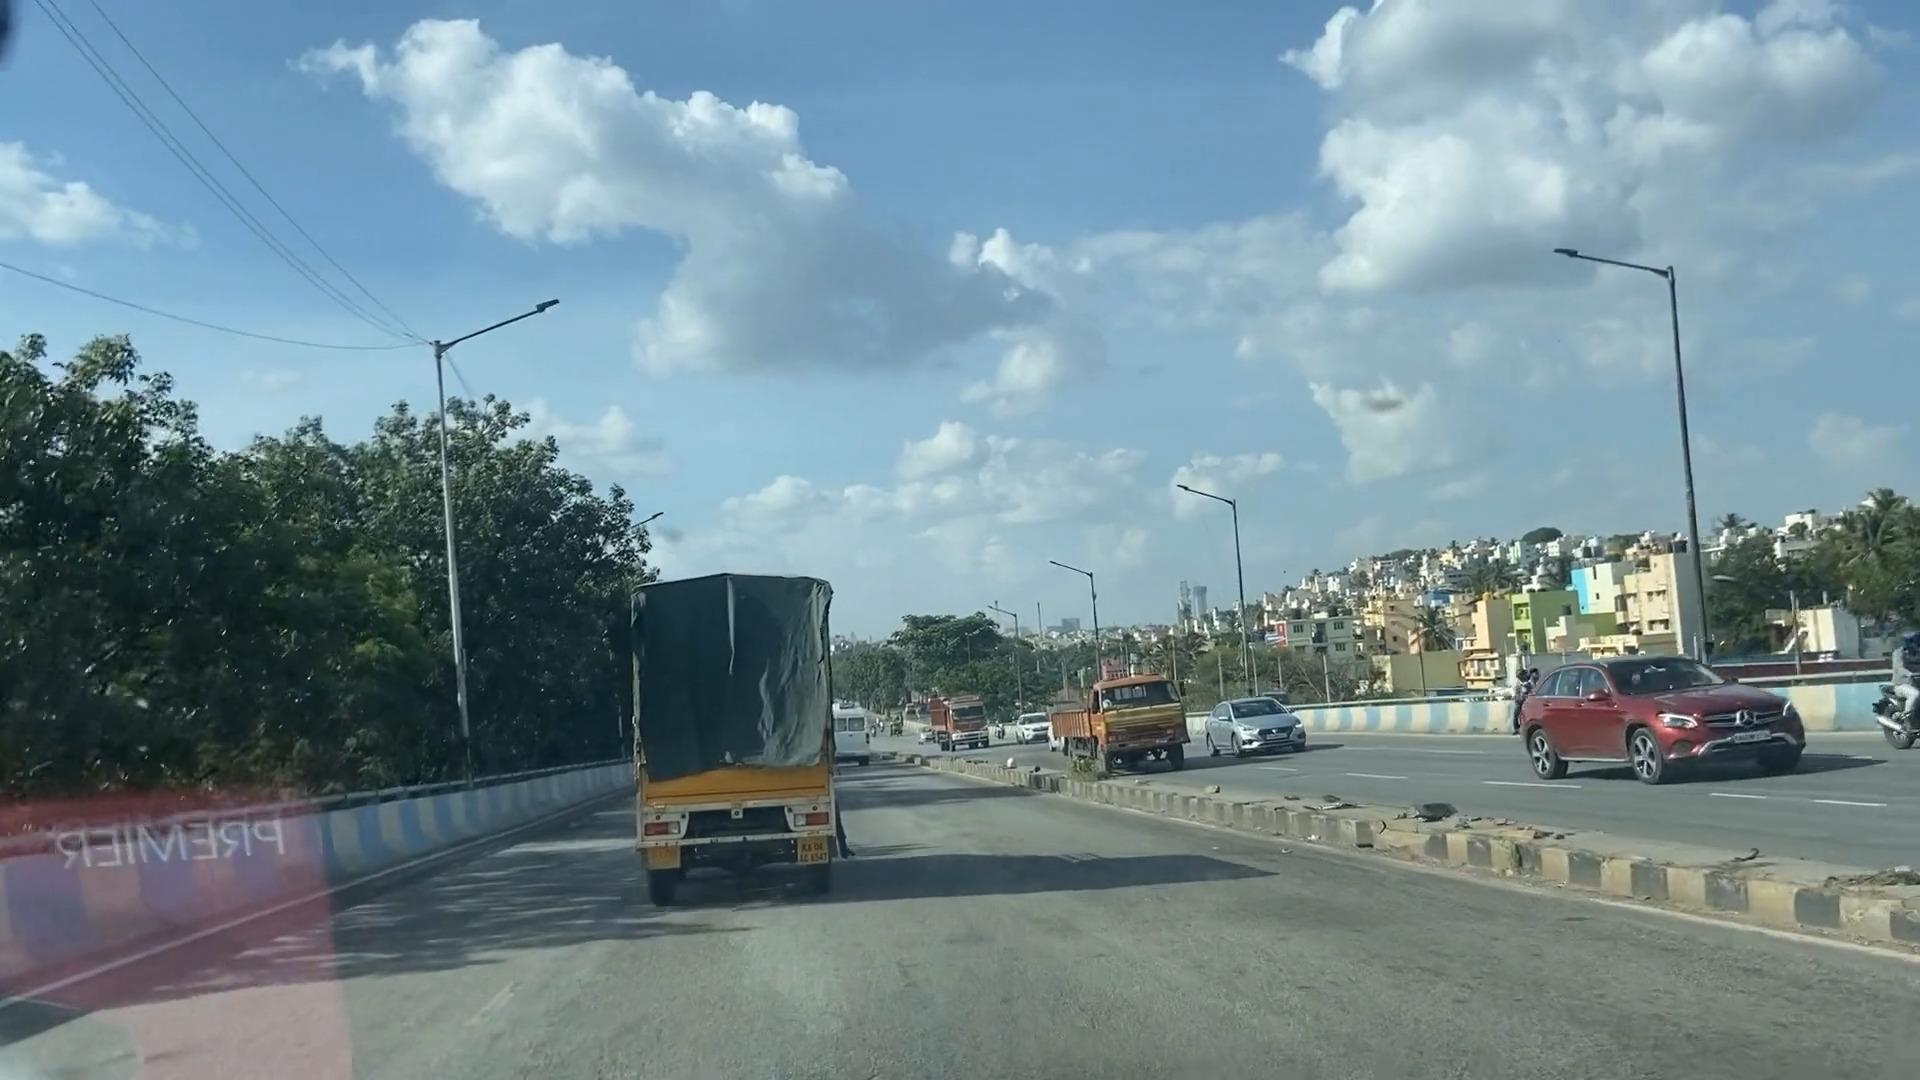HMV: (588, 579, 872, 899)
